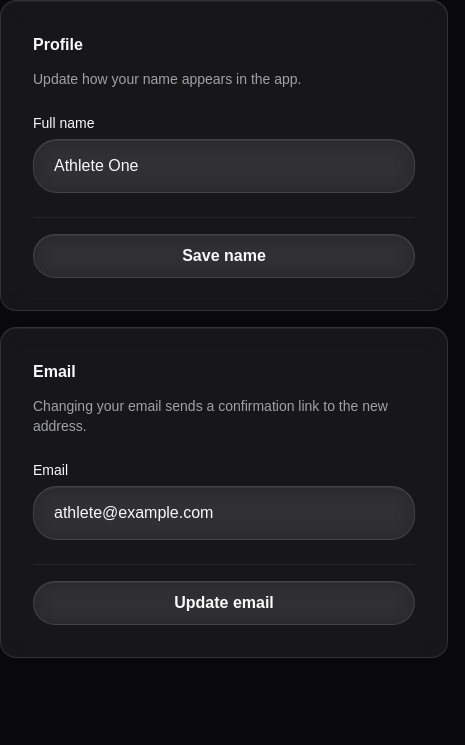
AthleteProfileSettings › shows name errors from the server action
The width and height of the screenshot is (465, 745).
Click the button "Save name" at (224, 256), box [33,234,415,278]
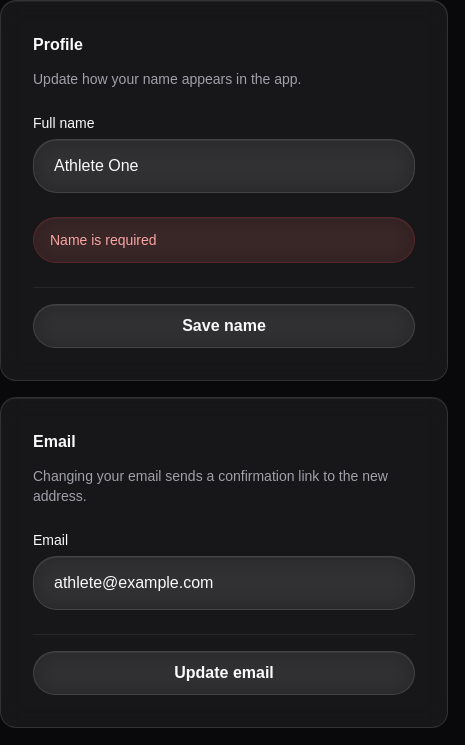
Expected: the text "Name is required" is shown, [33,217,415,263]
